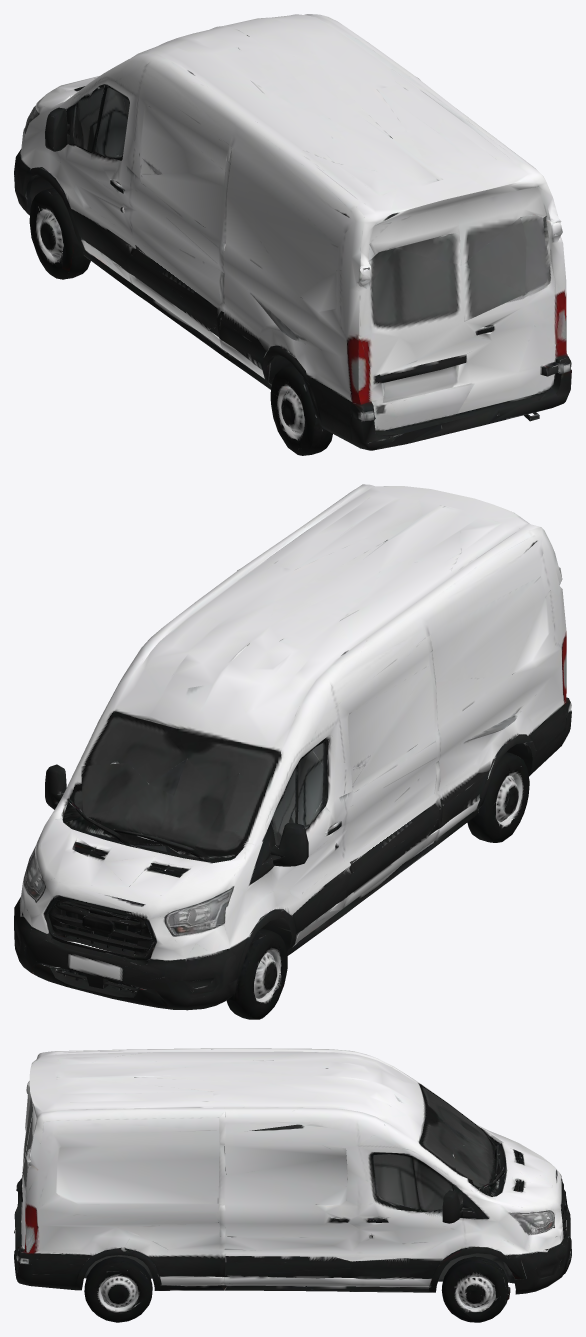
File: van.glb
3 renders of one model, top to bottom at view 1: azimuth 30°, elevation 25°; view 2: azimuth 150°, elevation 25°; view 3: azimuth 270°, elevation 25°, orthographic. The views are drawn at different scales.
Parts seen in each view (by area): view 1: van; view 2: van; view 3: van.
Part boxes in pixels (box(x1,y1,x2,y2)): van: box(14, 14, 571, 455); van: box(14, 484, 571, 1019); van: box(14, 1048, 571, 1322).
Bounding box in the file's own units: 2.2 × 2.28 × 5.5.
Materials: 1 (1 with a texture image).
